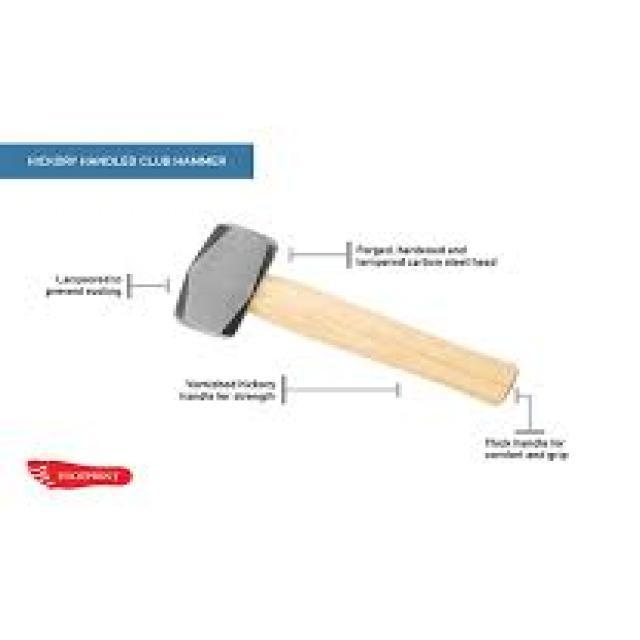Palu: (168, 194, 526, 433)
